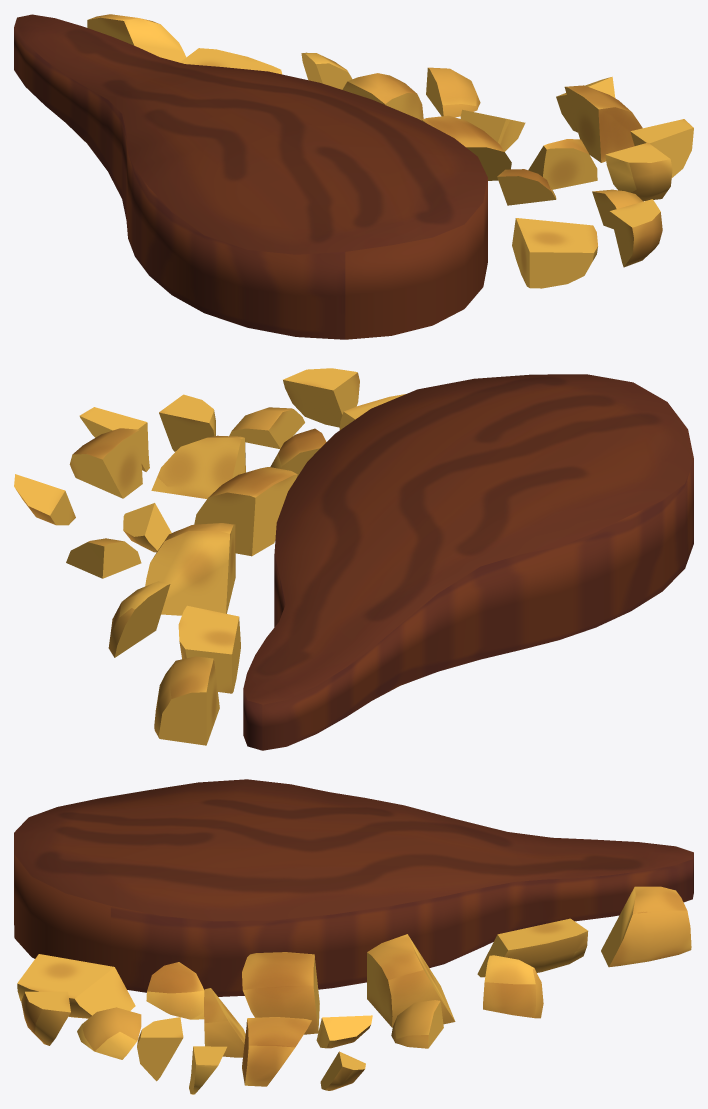
The model's file is steak potato.fbx.
The picture shows the model from 3 angles, top to bottom: view 1: azimuth 30°, elevation 25°; view 2: azimuth 150°, elevation 25°; view 3: azimuth 270°, elevation 25°; orthographic projection. The views are drawn at different scales.
Visible parts, largest first — view 1: Steak_3, Potato_4; view 2: Steak_3, Potato_4; view 3: Steak_3, Potato_4.
Part boxes in pixels (<box>): Steak_3: <box>14,14,487,339</box>; Potato_4: <box>87,14,693,288</box>; Steak_3: <box>243,374,693,750</box>; Potato_4: <box>14,368,405,745</box>; Steak_3: <box>14,779,693,996</box>; Potato_4: <box>17,886,691,1094</box>.
Bounding box in the file's own units: 78.83 × 16.28 × 93.16.
